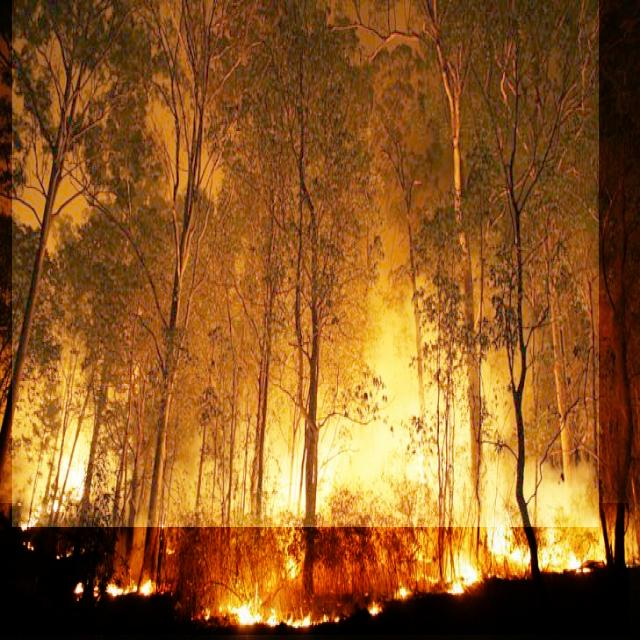Fire: (0, 503, 629, 635)
Smoke: (12, 0, 599, 527)
